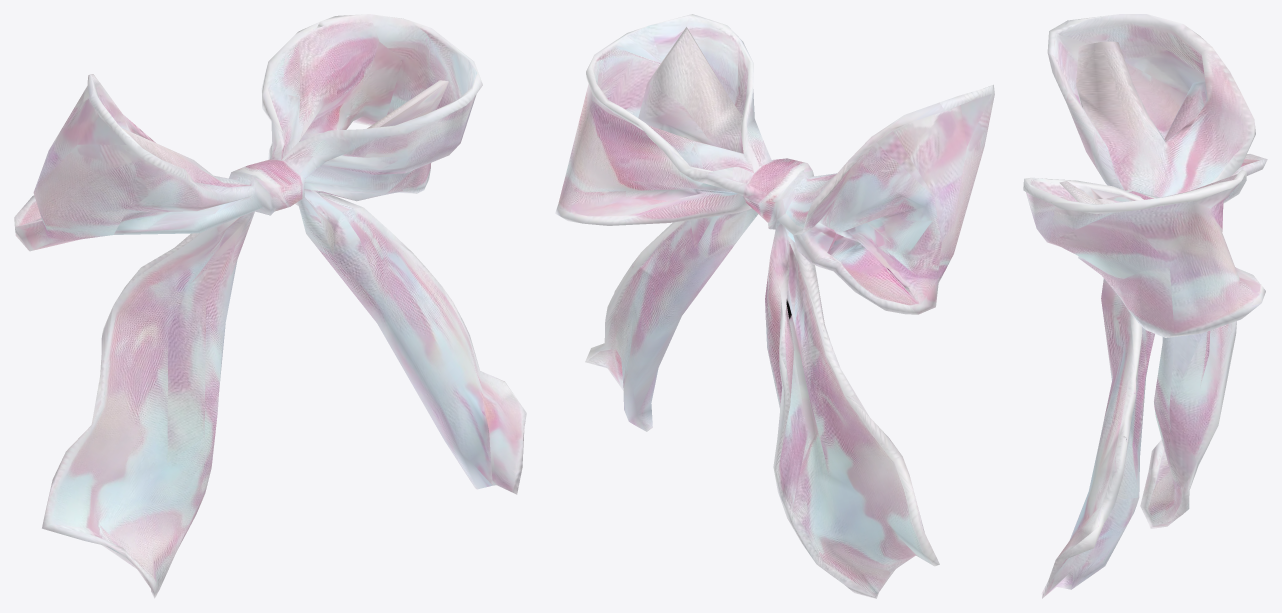
Rendered from Iridescent_Ribbon_Bow.glb.
3 views of the same model, side by side, from view 1: azimuth 30°, elevation 25°; view 2: azimuth 150°, elevation 25°; view 3: azimuth 270°, elevation 25° (orthographic). The views are drawn at different scales.
Visible parts, largest first — view 1: Mesh1.0; view 2: Mesh1.0; view 3: Mesh1.0.
Boxes of the visible parts, bbox=[...] form: Mesh1.0: bbox=[14, 14, 526, 598]; Mesh1.0: bbox=[555, 14, 994, 598]; Mesh1.0: bbox=[1023, 14, 1267, 598].
Bounding box in the file's own units: 0.1197 × 0.1402 × 0.0639.
Materials: 1 (1 with a texture image).
